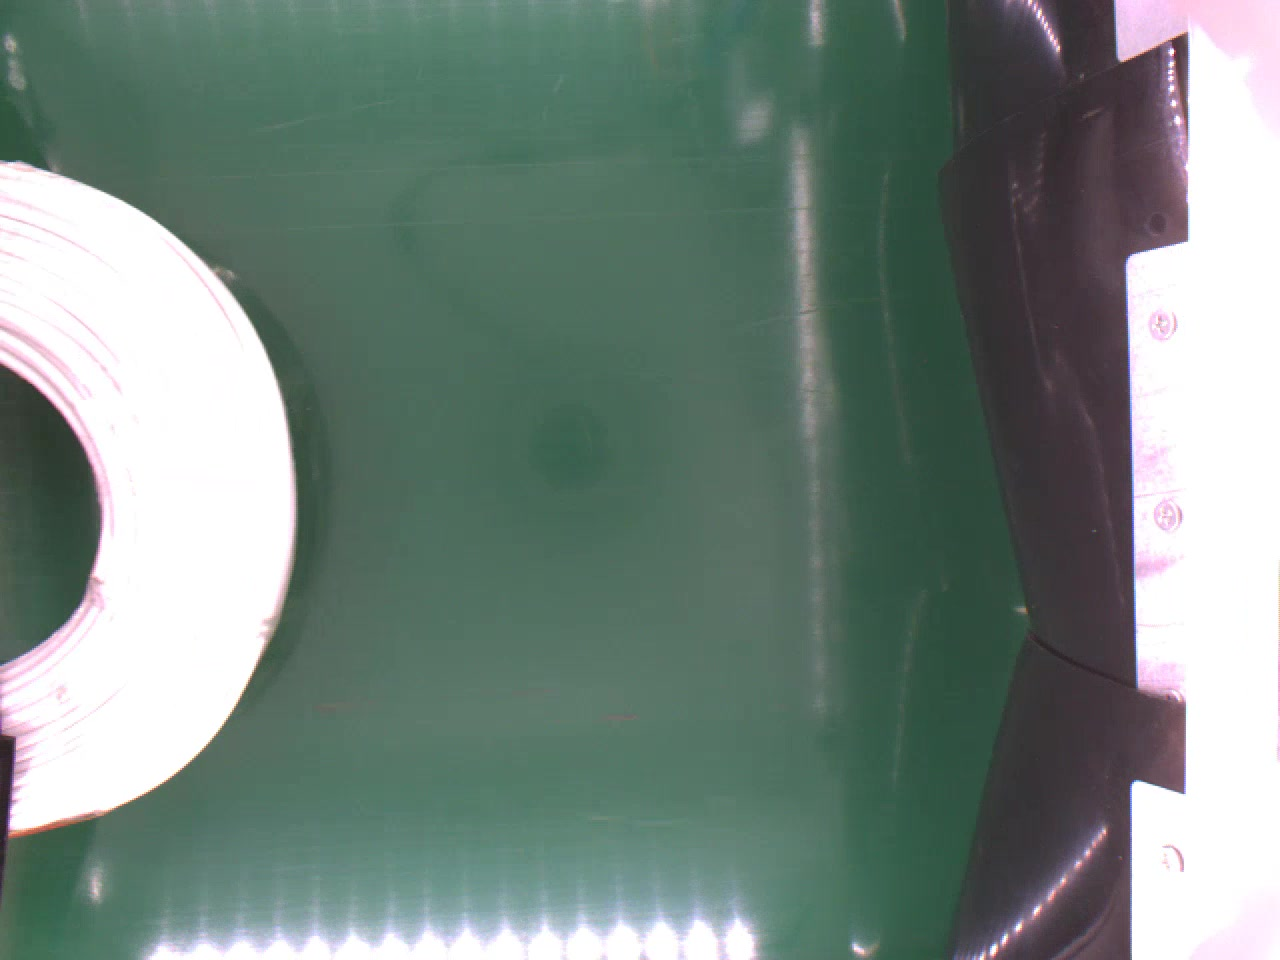white: (0, 152, 296, 829)
